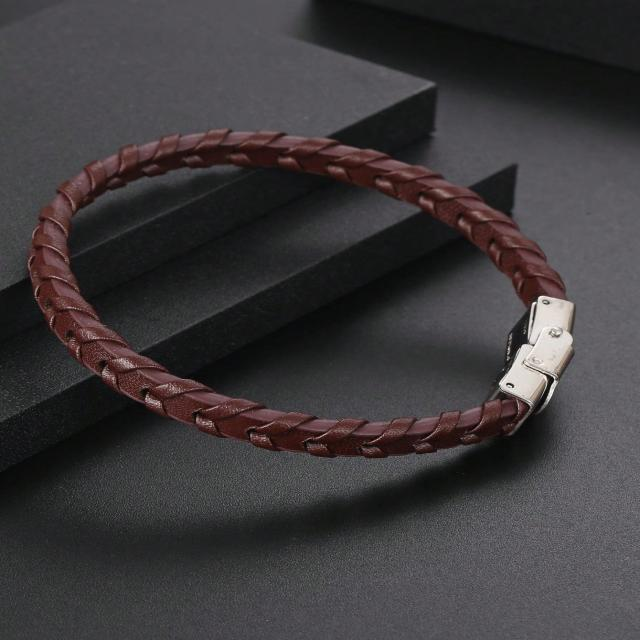bracelet: (16, 46, 640, 479)
